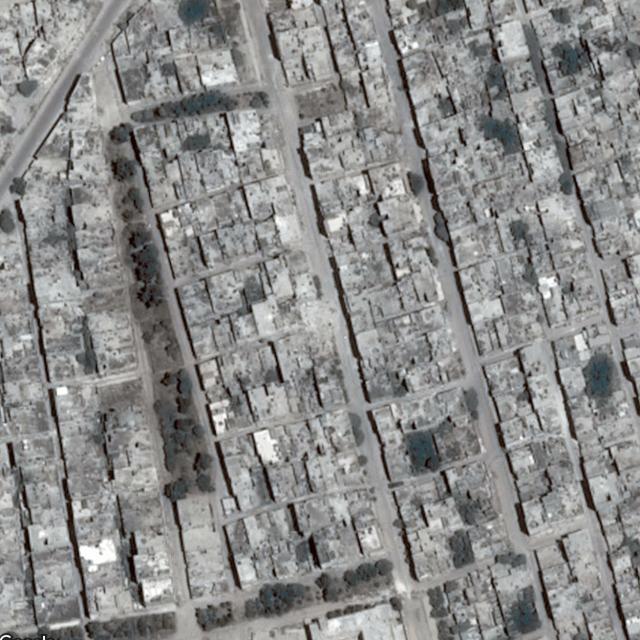damaged_building: (289, 301, 337, 359)
